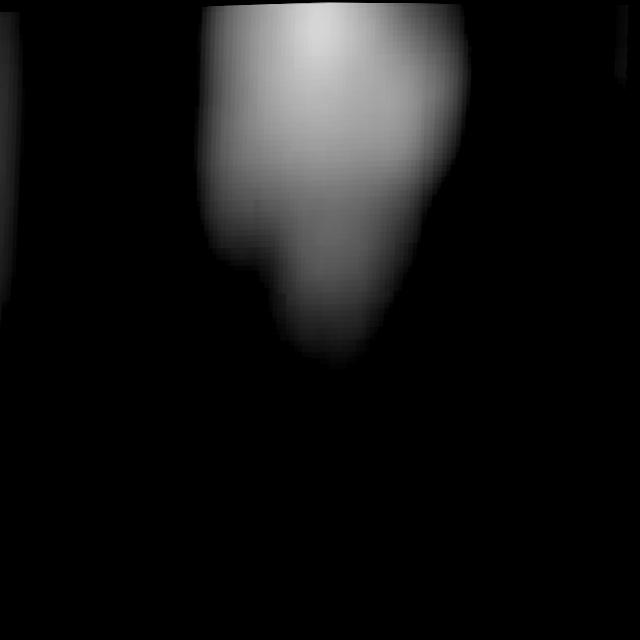person: (183, 2, 470, 393), (1, 10, 65, 492)
